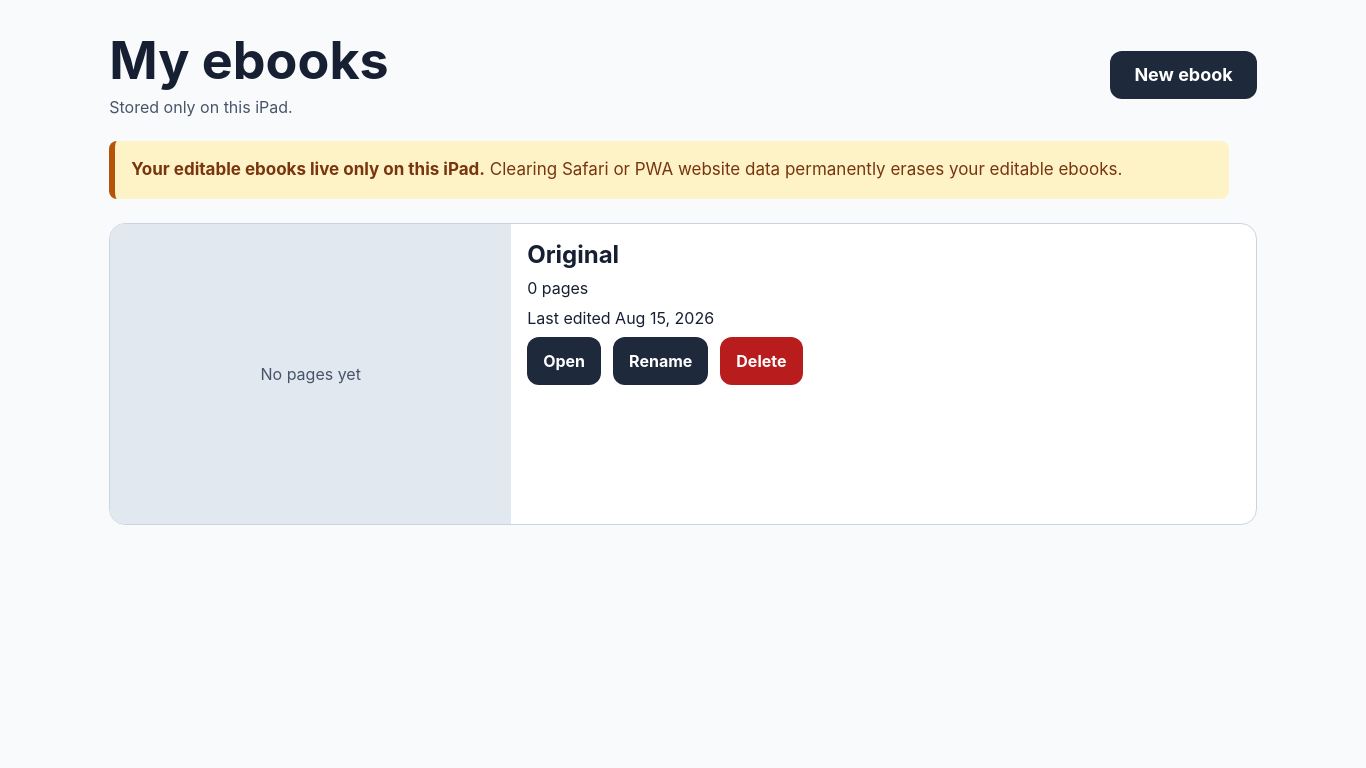
Test: LibraryScreen › opens and renames an ebook with a valid trimmed title
Click the button named "Open Original" at point(564, 362), box left=527, top=338, right=601, bottom=386
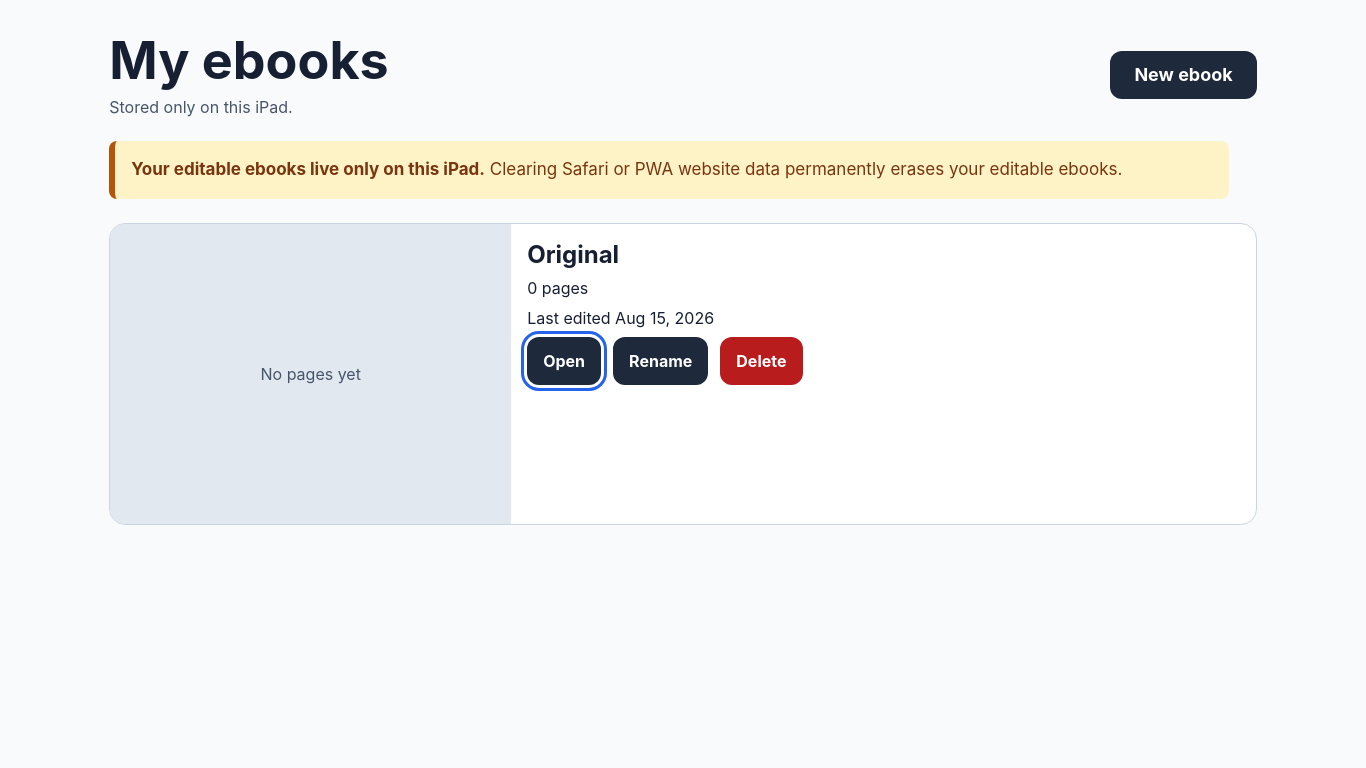
Click the button named "Rename Original" at point(661, 362), box left=613, top=338, right=708, bottom=386
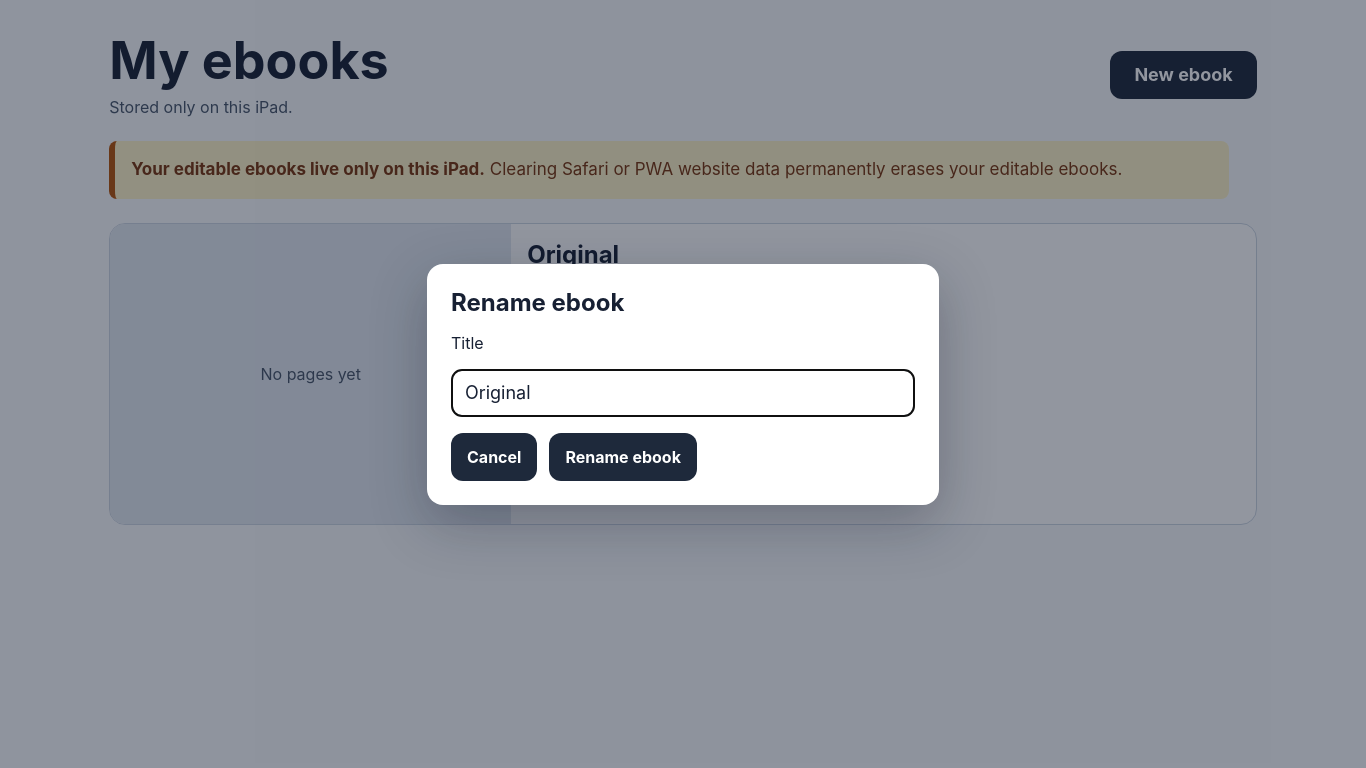
Replace the text in the field labelled "Title" with "  Renamed  " at point(683, 392), box left=451, top=368, right=915, bottom=416
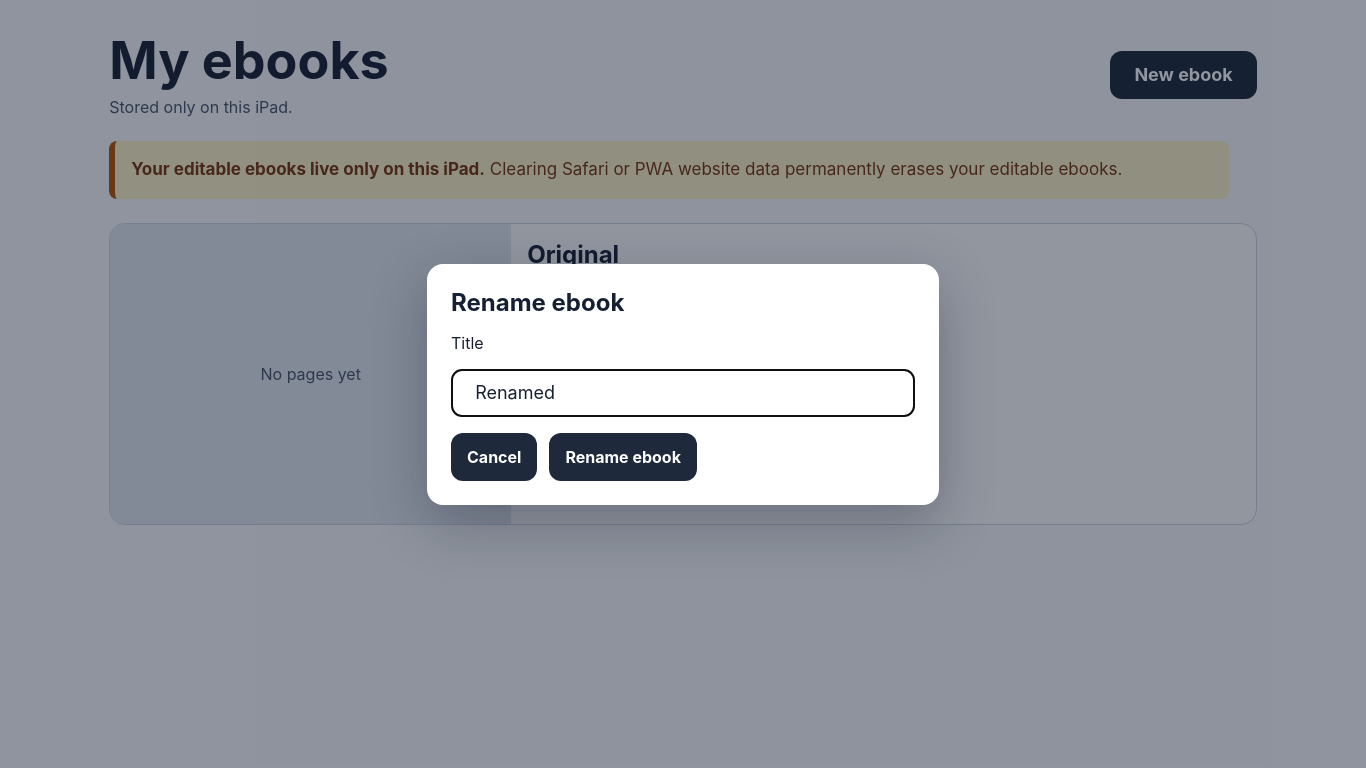
Click the button "Rename ebook" at point(623, 456), box left=549, top=432, right=697, bottom=480
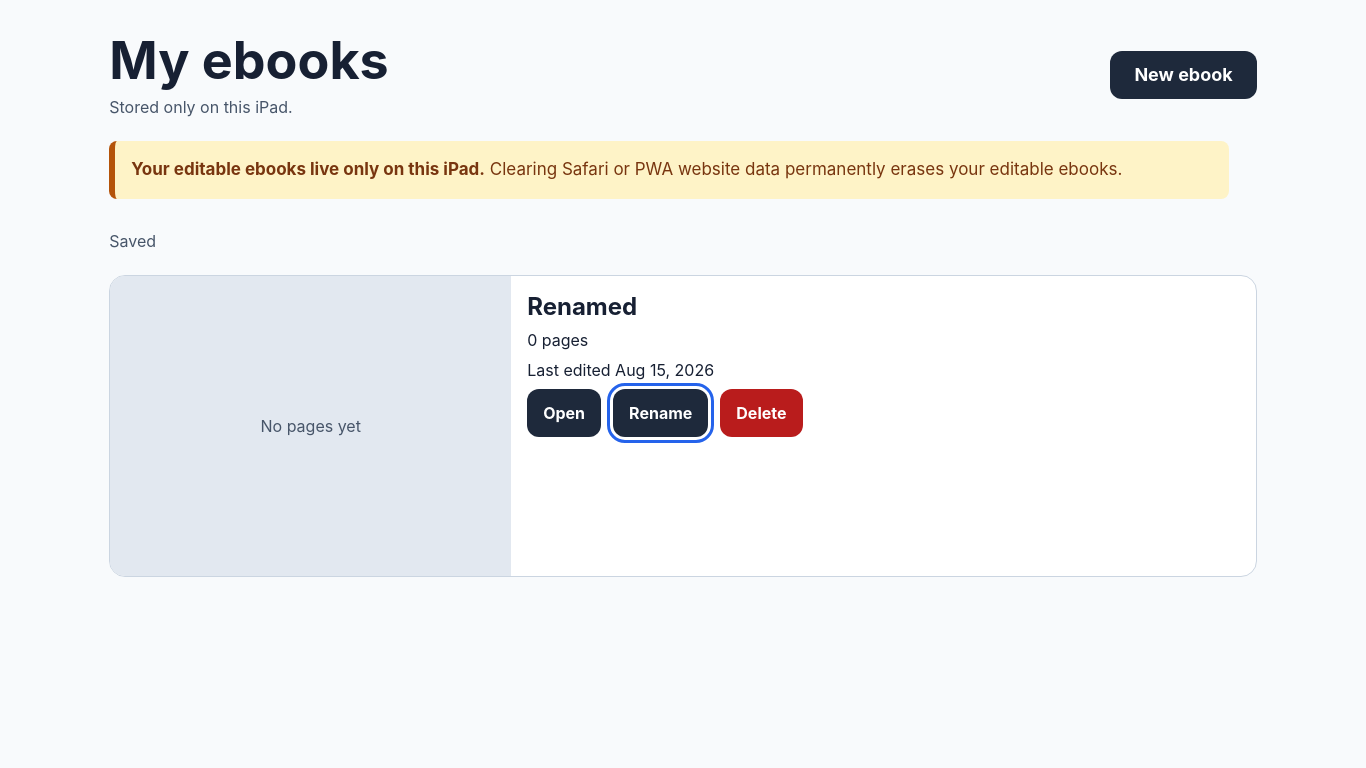
Now the heading "Renamed" is shown, box left=527, top=292, right=637, bottom=321
